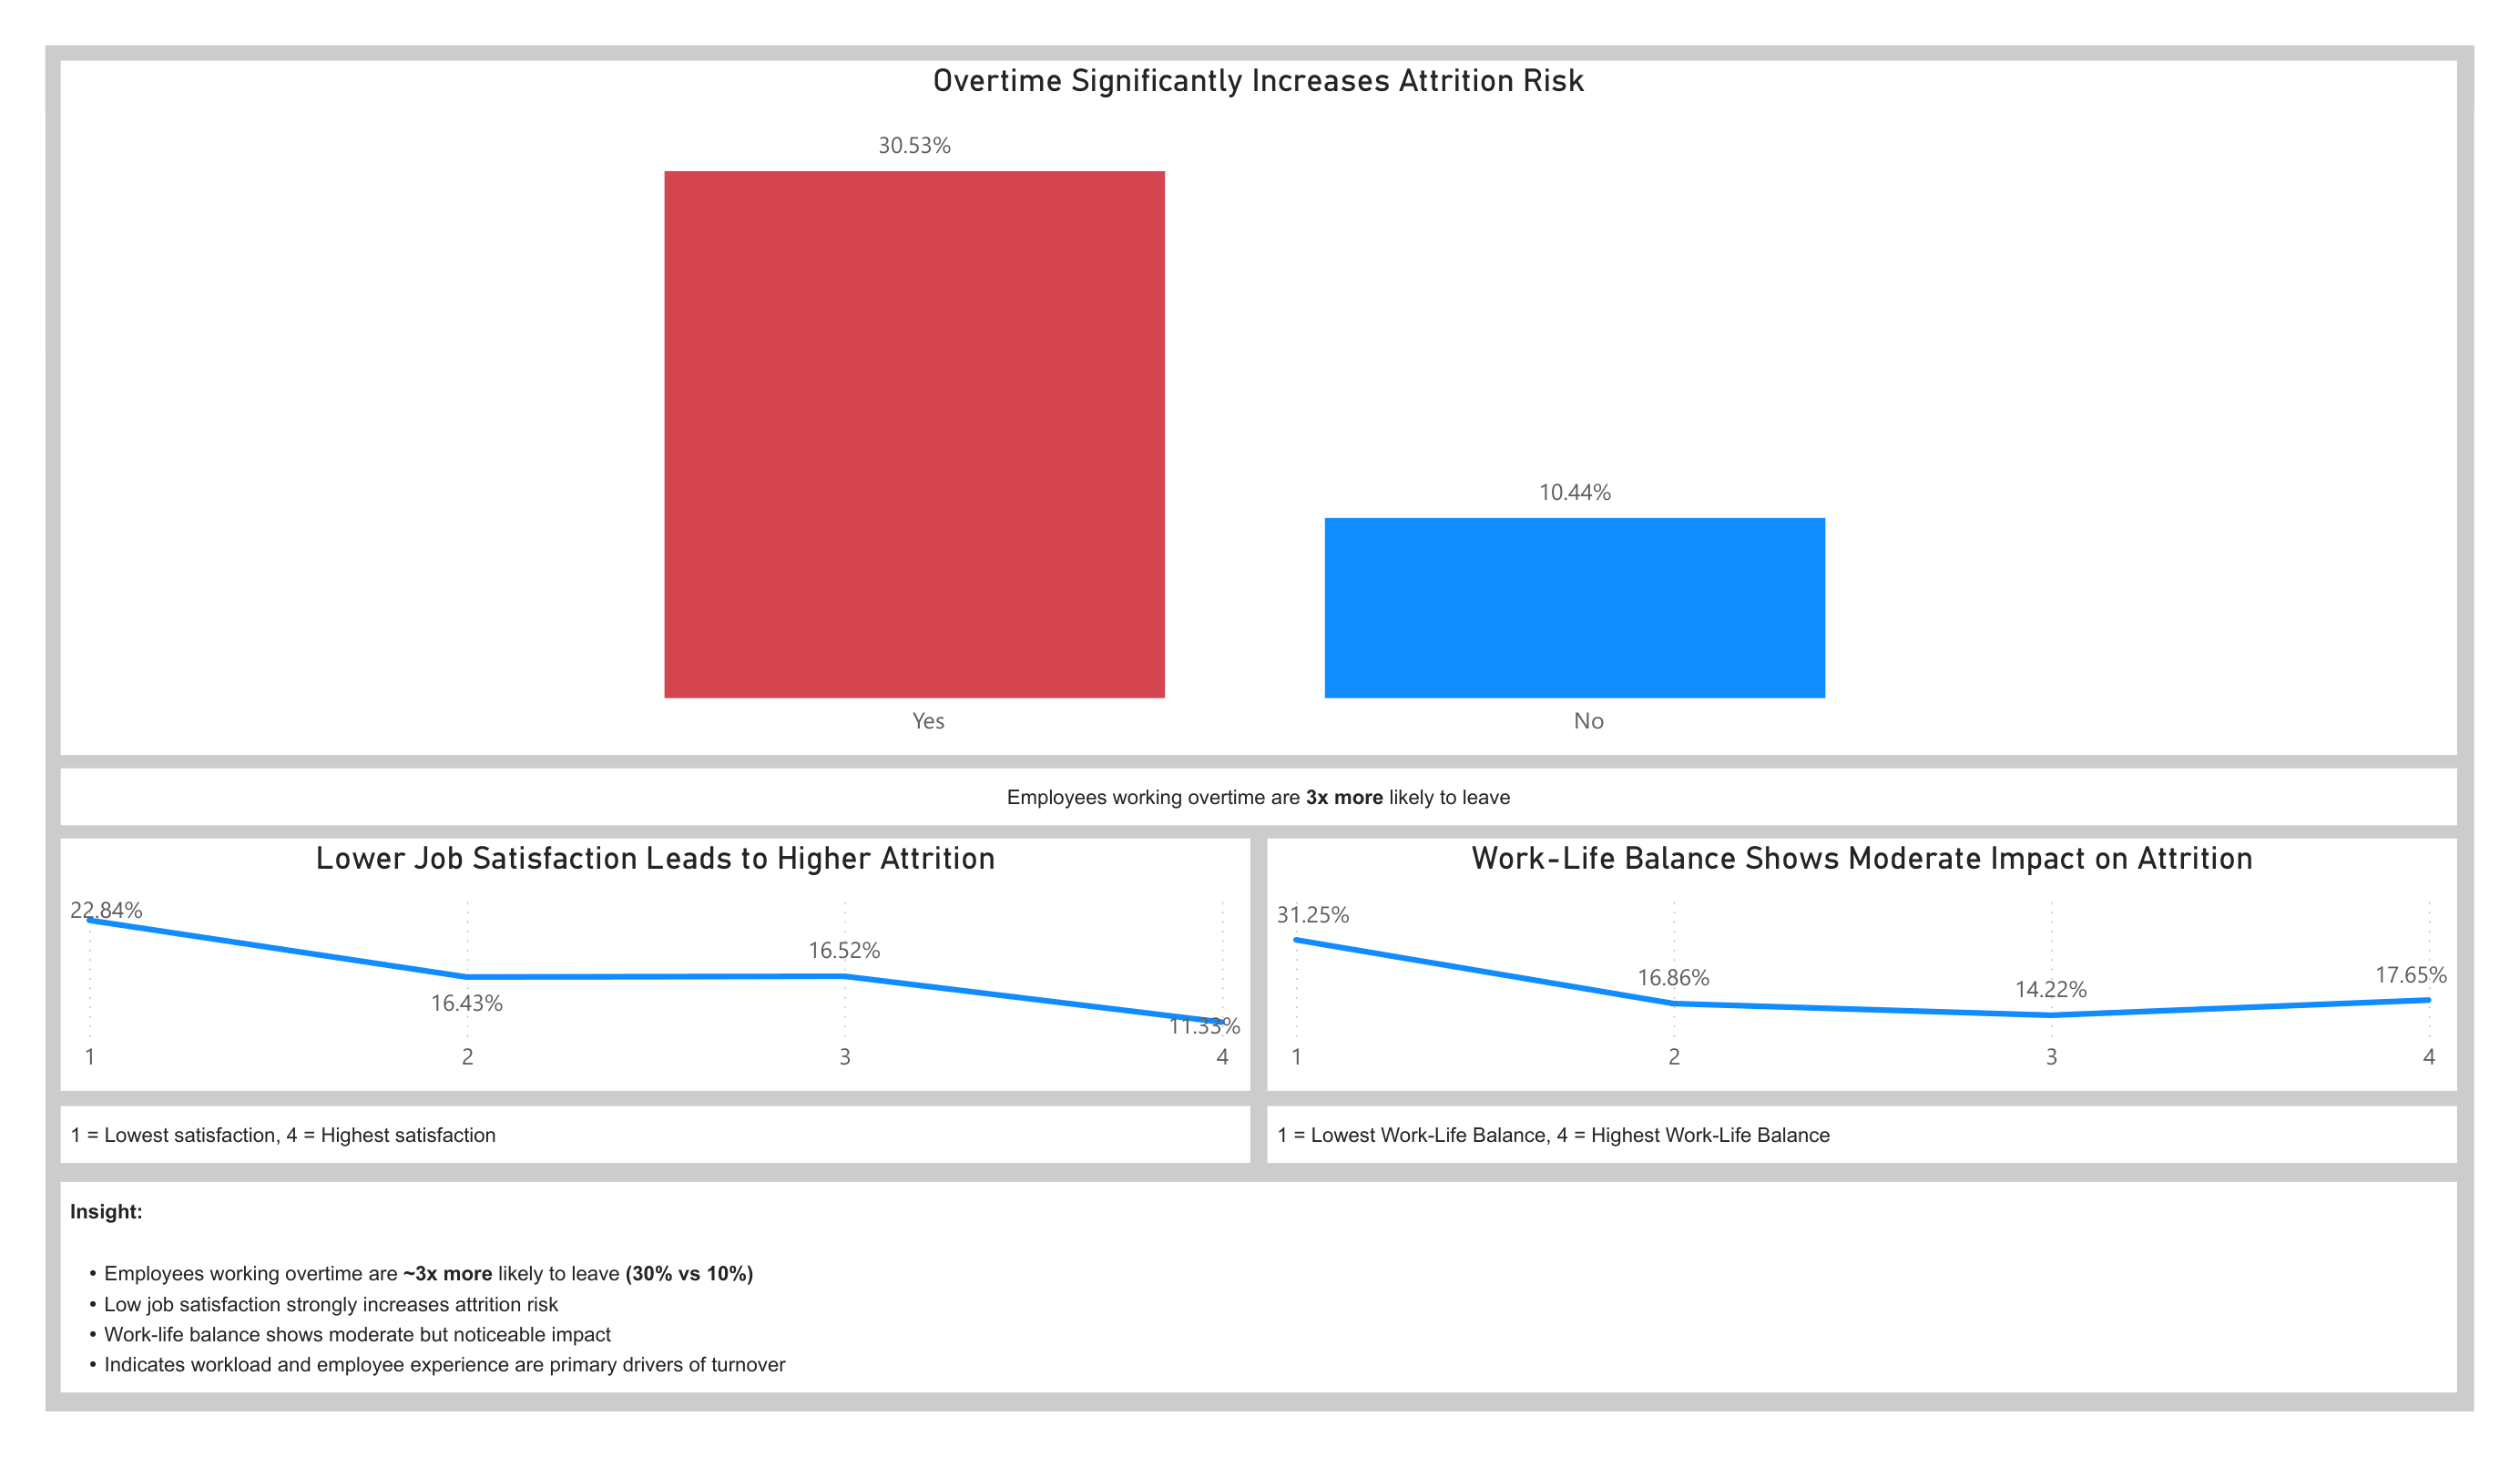

What the dashboard file says about the page in this screenshot:
{"tool":"powerbi","page":{"name":"Why are They Leaving","canvas":[1280,720],"ordinal":3},"visuals":[{"type":"clusteredColumnChart","title":"Overtime Significantly Increases Attrition Risk","fields":{"Category":["HR_Data1.OverTime"],"Y":["HR_Data1.Attrition Rate"]},"box":[8.2,8.2,1262.7,365.5],"z":0},{"type":"lineChart","title":"Lower Job Satisfaction Leads to Higher Attrition","fields":{"Category":["HR_Data1.JobSatisfaction"],"Y":["HR_Data1.Attrition Rate"]},"box":[8.2,418.2,627.3,132.7],"z":1000},{"type":"lineChart","title":"Work-Life Balance Shows Moderate Impact on Attrition","fields":{"Y":["HR_Data1.Attrition Rate"],"Category":["HR_Data1.WorkLifeBalance"]},"box":[643.6,418.2,627.3,132.7],"z":2000},{"type":"textbox","box":[8.2,599.1,1262.7,110.9],"z":3000},{"type":"textbox","box":[8.2,380.9,1262.7,30],"z":4000},{"type":"textbox","box":[8.2,559.1,627.3,30],"z":5000},{"type":"textbox","box":[643.6,559.1,627.3,30],"z":6000}]}

Visuals, with their boxes on the page's 1280x720 design canvas (x1, y1, x2, y2). These are canvas units, not pixel positions in the 2520x1457 screenshot, which may show the page scaled, cropped or inside an application window:
"Overtime Significantly Increases Attrition Risk" clusteredColumnChart: pyautogui.locateOnScreen(8, 8, 1271, 374)
"Lower Job Satisfaction Leads to Higher Attrition" lineChart: pyautogui.locateOnScreen(8, 418, 636, 551)
"Work-Life Balance Shows Moderate Impact on Attrition" lineChart: pyautogui.locateOnScreen(644, 418, 1271, 551)
textbox: pyautogui.locateOnScreen(8, 599, 1271, 710)
textbox: pyautogui.locateOnScreen(8, 381, 1271, 411)
textbox: pyautogui.locateOnScreen(8, 559, 636, 589)
textbox: pyautogui.locateOnScreen(644, 559, 1271, 589)
